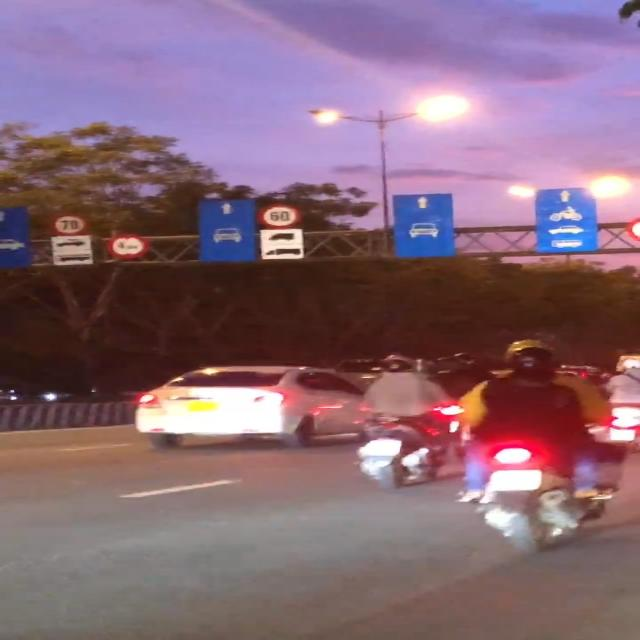Bien bao han che chieu cao: (106, 232, 151, 261)
Bien bao toc do toi da cho phep: (260, 204, 300, 228), (50, 212, 90, 236)
